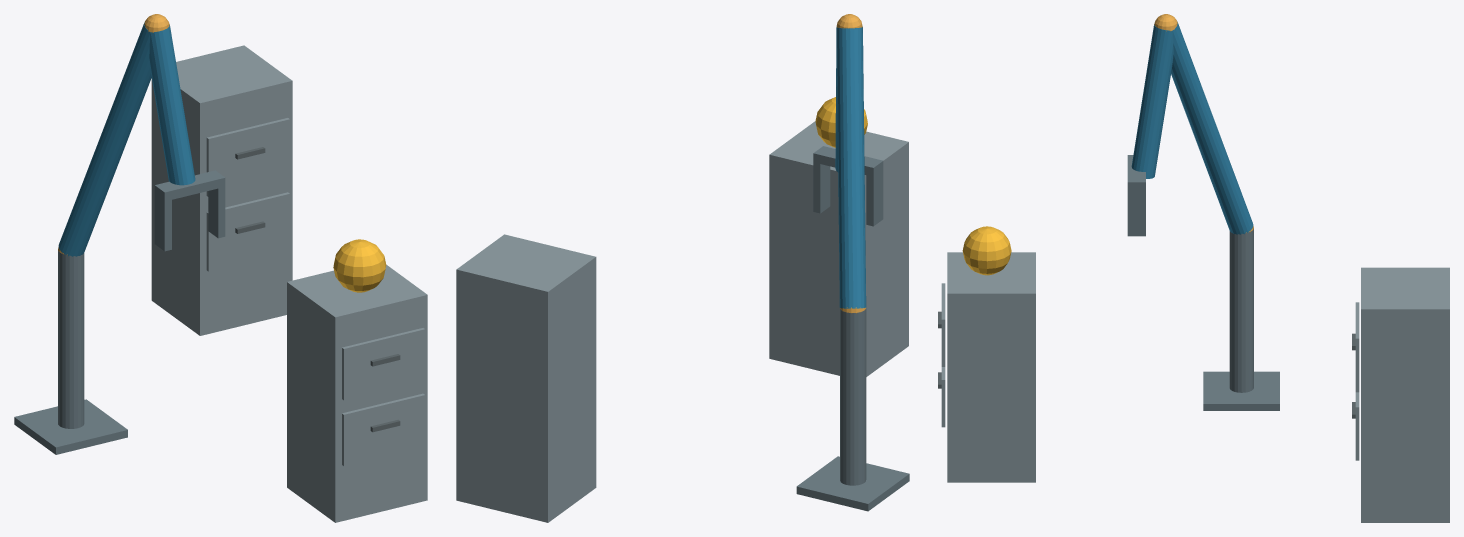
3 views of the same model, side by side, from view 1: azimuth 30°, elevation 25°; view 2: azimuth 150°, elevation 25°; view 3: azimuth 270°, elevation 25° (orthographic). The views are drawn at different scales.
Visible parts, largest first — view 1: cabinet_1 body, cabinet_2 body, moving link 1, fixed post, cabinet_2 drawer front.001, cabinet_2 drawer front, cabinet_1 drawer front.001, cabinet_1 drawer front, moving link 2, pedestal, ball ball_1, gripper bridge (+2 smaller); view 2: cabinet_2 body, cabinet_1 body, moving link 1, fixed post, pedestal, gripper finger -1, ball ball_1, gripper finger 1, gripper bridge; view 3: cabinet_2 body, cabinet_1 body, moving link 1, fixed post, moving link 2, pedestal, ball ball_1, gripper finger 1.
Boxes of the visible parts, x1=… form: cabinet_1 body: x1=287, y1=265, x2=427, y2=522; cabinet_2 body: x1=151, y1=45, x2=292, y2=335; moving link 1: x1=58, y1=22, x2=151, y2=256; fixed post: x1=58, y1=251, x2=84, y2=428; cabinet_2 drawer front.001: x1=206, y1=118, x2=289, y2=196; cabinet_2 drawer front: x1=206, y1=192, x2=289, y2=271; cabinet_1 drawer front.001: x1=342, y1=328, x2=425, y2=400; cabinet_1 drawer front: x1=342, y1=393, x2=425, y2=465; moving link 2: x1=149, y1=25, x2=195, y2=185; pedestal: x1=14, y1=399, x2=127, y2=454; ball ball_1: x1=333, y1=239, x2=386, y2=292; gripper bridge: x1=154, y1=170, x2=225, y2=201; cabinet_2 body: x1=456, y1=234, x2=596, y2=522; cabinet_1 body: x1=769, y1=121, x2=908, y2=376; moving link 1: x1=836, y1=27, x2=866, y2=308; fixed post: x1=840, y1=307, x2=866, y2=485; pedestal: x1=796, y1=456, x2=909, y2=511; gripper finger -1: x1=866, y1=170, x2=883, y2=226; ball ball_1: x1=815, y1=97, x2=867, y2=147; gripper finger 1: x1=813, y1=162, x2=830, y2=213; gripper bridge: x1=813, y1=146, x2=883, y2=176; cabinet_2 body: x1=1361, y1=267, x2=1449, y2=522; cabinet_1 body: x1=947, y1=252, x2=1035, y2=482; moving link 1: x1=1171, y1=21, x2=1253, y2=234; fixed post: x1=1229, y1=228, x2=1253, y2=392; moving link 2: x1=1131, y1=24, x2=1173, y2=178; pedestal: x1=1203, y1=371, x2=1279, y2=410; ball ball_1: x1=962, y1=226, x2=1011, y2=275; gripper finger 1: x1=1127, y1=190, x2=1145, y2=236.
Size of the model in its own units: 1.12 by 1.44 by 1.67.
